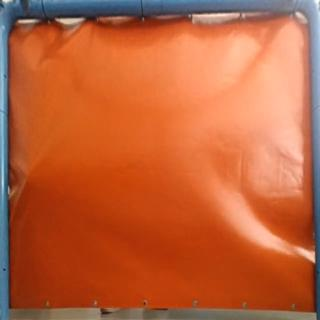Hit-hRxx: (20, 172, 32, 188)
